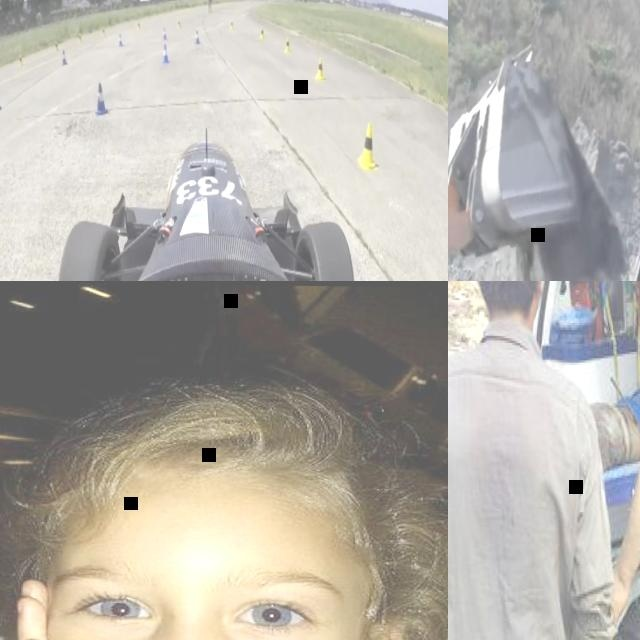Hardhat: (448, 281, 611, 640)
NO-Hardhat: (44, 388, 448, 558)
NO-Safety Vest: (448, 348, 568, 640)
Person: (0, 378, 448, 640), (207, 0, 212, 11)
Safety Cone: (354, 123, 378, 172), (93, 83, 110, 117), (314, 56, 324, 80), (161, 42, 170, 66), (61, 46, 68, 67), (283, 35, 290, 54), (17, 54, 24, 70), (195, 28, 201, 46), (117, 32, 123, 48), (259, 25, 265, 40), (161, 25, 167, 40), (53, 38, 59, 52), (77, 32, 83, 45), (101, 24, 105, 36), (137, 19, 141, 31), (230, 19, 234, 30), (177, 18, 181, 28)
machinery: (448, 39, 590, 281)
vehicle: (448, 281, 640, 640), (39, 122, 362, 281)
